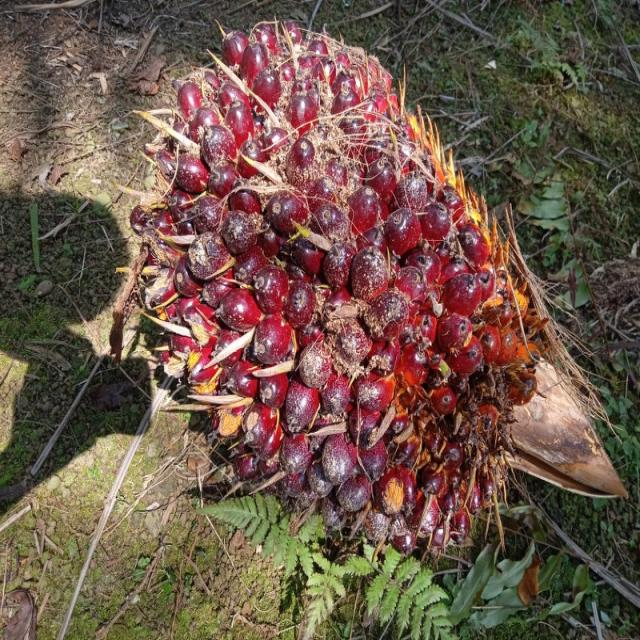fraksi 1: (74, 0, 561, 609)
